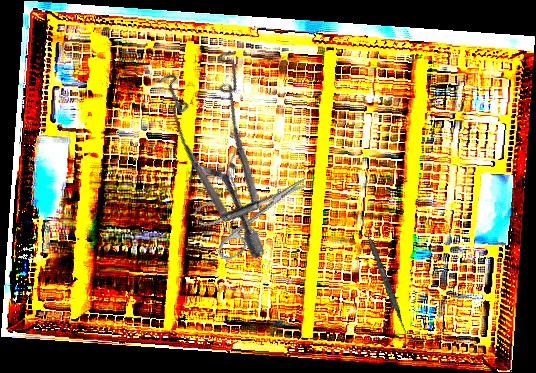Iris Scissors: (192, 156, 323, 265)
Spatula Surgical: (356, 214, 411, 335)
Speculum: (114, 27, 350, 262)
